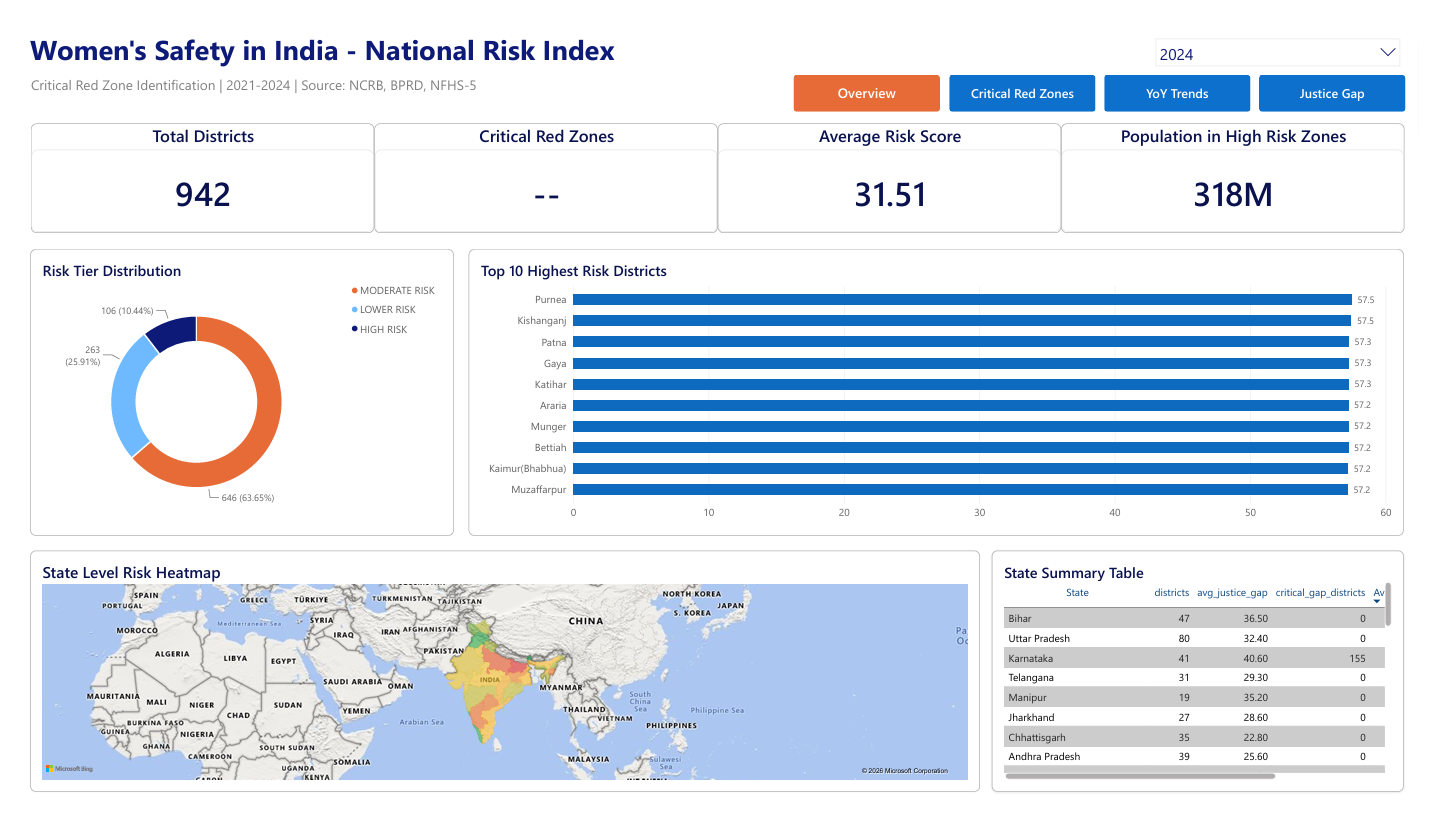

The page's visual inventory and layout, read from the dashboard file:
{"tool":"powerbi","page":{"name":"National Overview","canvas":[1920,1080],"ordinal":0},"visuals":[{"type":"textbox","box":[20,20,1500,60],"z":0},{"type":"textbox","box":[21.4,80,877.1,44.3],"z":1000},{"type":"slicer","fields":{"Values":["master_risk_scores.Year"]},"box":[1550,20,350,80],"z":2000},{"type":"donutChart","title":"Risk Tier Distribution","fields":{"Category":["master_risk_scores.Risk_Tier"],"Y":["CountNonNull(master_risk_scores.District)"]},"box":[20,318,580,392],"z":3000},{"type":"clusteredBarChart","title":"Top 10 Highest Risk Districts","fields":{"Category":["master_risk_scores.District"],"Y":["_Measures.Avg Risk Score"]},"box":[620,318,1280,392],"z":4000},{"type":"textbox","box":[20,710,580,370],"z":5000},{"type":"filledMap","title":"State Level Risk Heatmap","fields":{"Category":["master_risk_scores.State"]},"box":[20,730,1300,330],"z":6000},{"type":"tableEx","title":"State Summary Table","fields":{"Values":["state_justice_gap.State","state_justice_gap.districts","state_justice_gap.avg_justice_gap","state_justice_gap.critical_gap_districts","_Measures.Avg Risk Score","_Measures.Avg Police Vacancy"]},"box":[1336,730,564,330],"z":7000},{"type":"cardVisual","title":"Total Districts","fields":{"Data":["_Measures.Total Districts"]},"box":[21,146,470,150],"z":8000},{"type":"cardVisual","title":"Critical Red Zones","fields":{"Data":["_Measures.Total Critical Zones"]},"box":[491.4,145.7,470,150],"z":9000},{"type":"cardVisual","title":"Average Risk Score","fields":{"Data":["_Measures.Avg Risk Score"]},"box":[961.4,145.7,470,150],"z":10000},{"type":"cardVisual","title":"Population in High Risk Zones","fields":{"Data":["_Measures.Population in High Risk Zones"]},"box":[1431.4,145.7,470,150],"z":11000},{"type":"actionButton","box":[1065,80,200,50],"z":11001},{"type":"actionButton","box":[1278,80,200,50],"z":11002},{"type":"actionButton","box":[1490,80,200,50],"z":11003},{"type":"actionButton","box":[1702,80,200,50],"z":11004}]}

Visuals, with their boxes in screenshot pixels (x1, y1, x2, y2), scaled from the page's 1920x1080 canvas onto the 1432x820 screenshot:
textbox: rect(15, 15, 1134, 61)
textbox: rect(16, 61, 670, 94)
slicer - master_risk_scores.Year: rect(1156, 15, 1417, 76)
"Risk Tier Distribution" donutChart: rect(15, 241, 448, 539)
"Top 10 Highest Risk Districts" clusteredBarChart: rect(462, 241, 1417, 539)
textbox: rect(15, 539, 448, 819)
"State Level Risk Heatmap" filledMap: rect(15, 554, 984, 805)
"State Summary Table" tableEx: rect(996, 554, 1417, 805)
"Total Districts" cardVisual: rect(16, 111, 366, 225)
"Critical Red Zones" cardVisual: rect(367, 111, 717, 225)
"Average Risk Score" cardVisual: rect(717, 111, 1068, 225)
"Population in High Risk Zones" cardVisual: rect(1068, 111, 1418, 225)
actionButton: rect(794, 61, 943, 99)
actionButton: rect(953, 61, 1102, 99)
actionButton: rect(1111, 61, 1260, 99)
actionButton: rect(1269, 61, 1419, 99)
